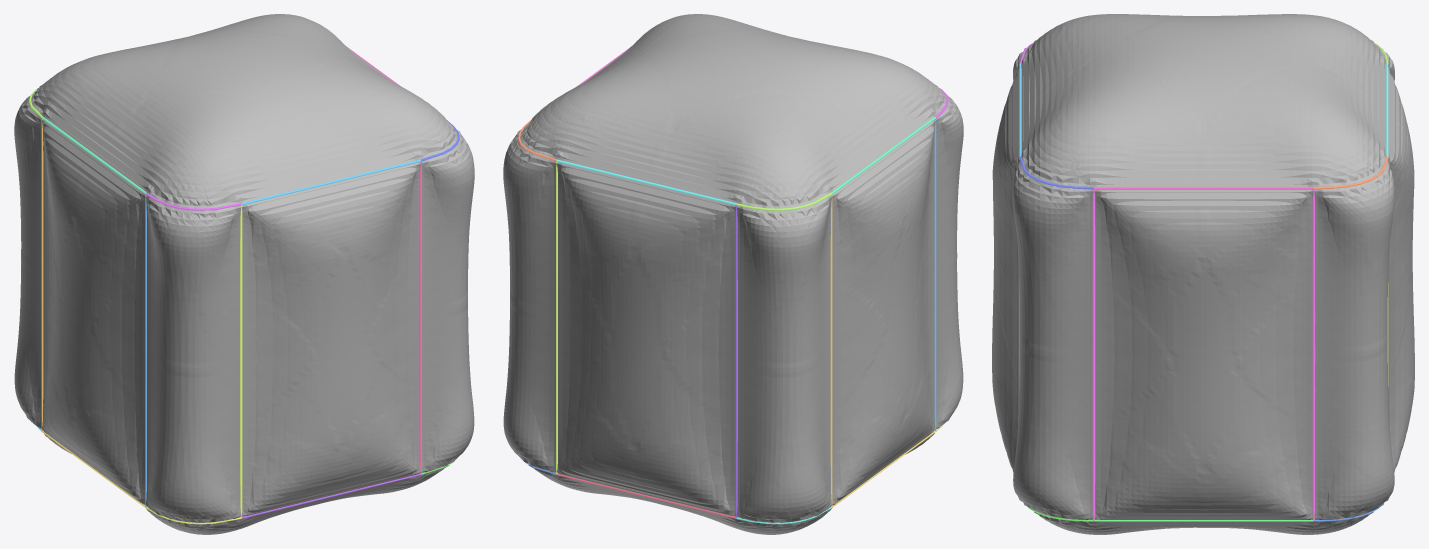
Rendered from onshape_simple_shape.gltf.
3 views of the same model, side by side, from view 1: azimuth 30°, elevation 25°; view 2: azimuth 150°, elevation 25°; view 3: azimuth 270°, elevation 25° (orthographic). The views are drawn at different scales.
Size of the model in its own units: 0.6643 by 0.7561 by 0.6661.
